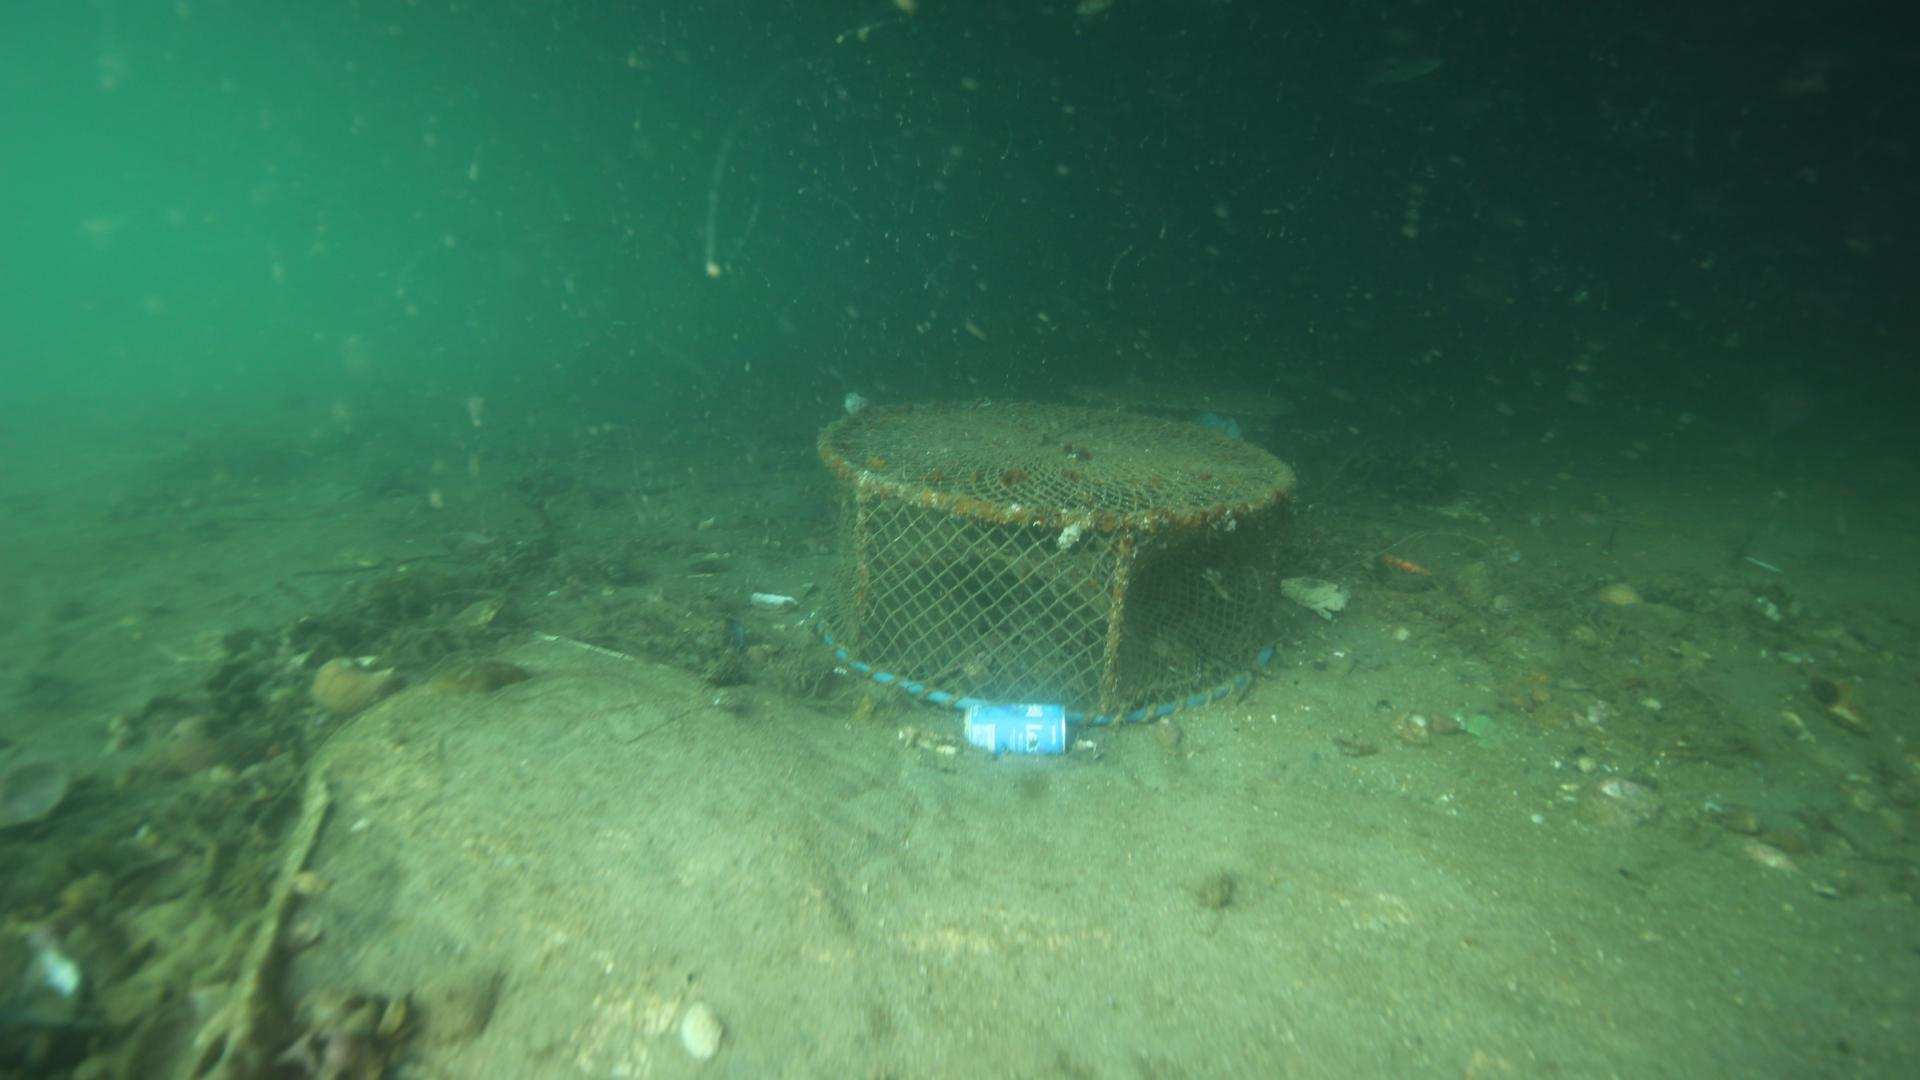circular fish trap: (803, 386, 1302, 731)
